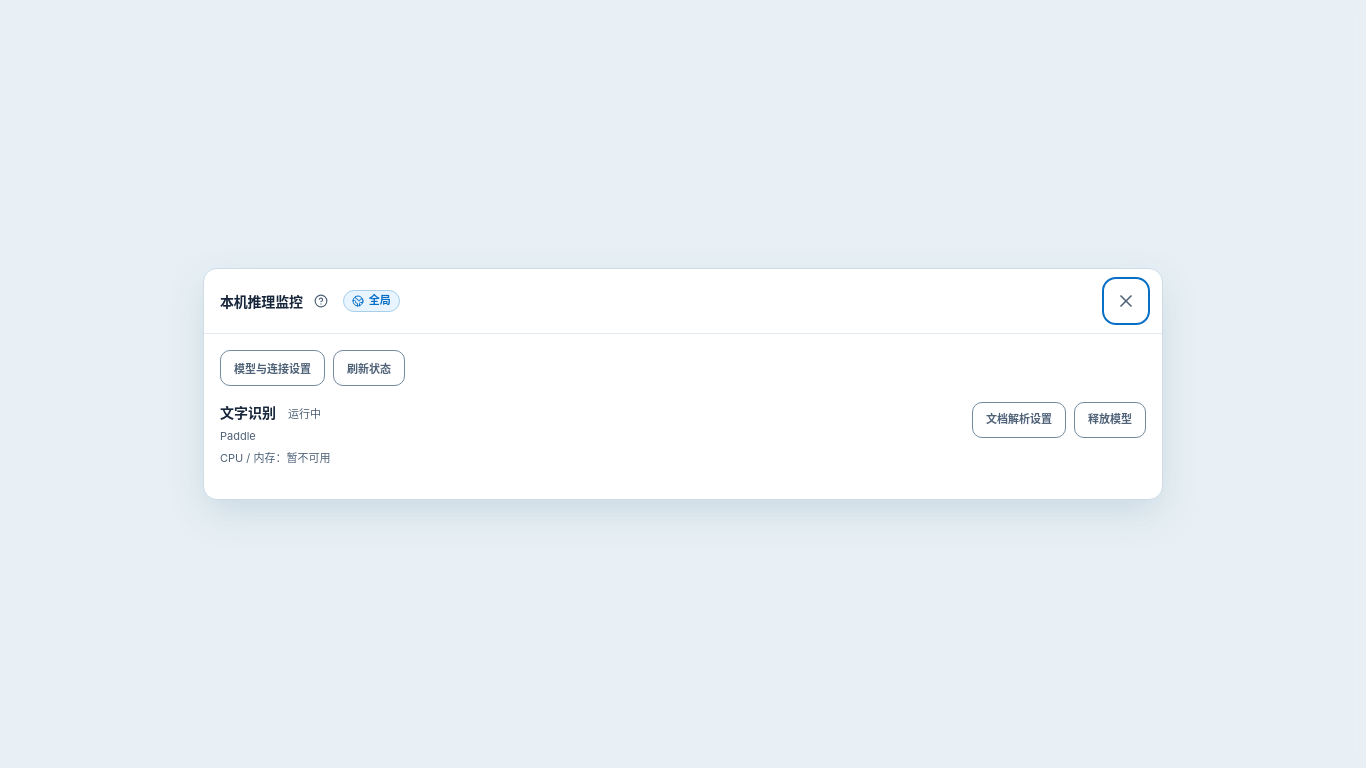
LocalInferencePage › confirms OCR release with a specific danger action and leaves the management modal open
Expected: the heading "文字识别" is shown, [220,402,276,424]
Click the button "释放模型" at (1110, 420), box [1074,402,1146,438]
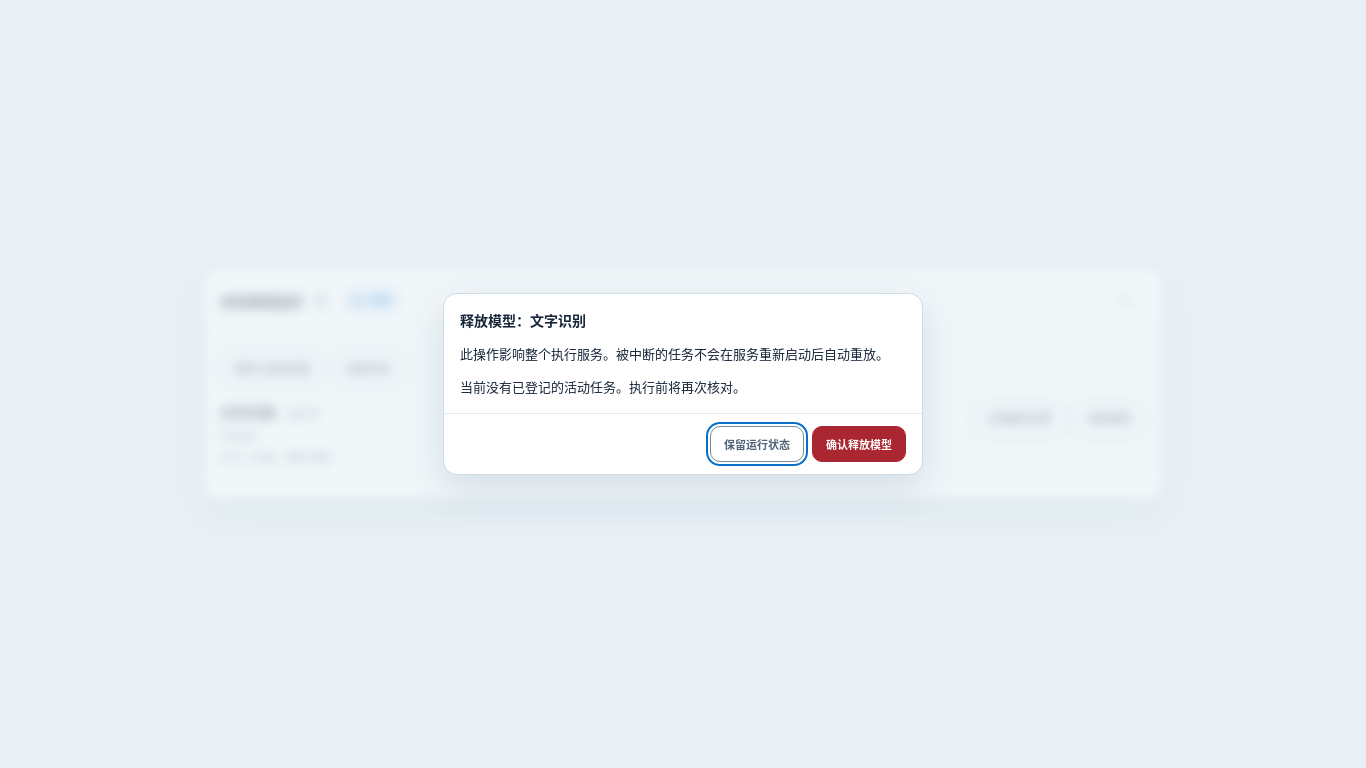
Now the text "当前没有已登记的活动任务。执行前将再次核对。" is shown, box [460,379,746,395]
Click the button "确认释放模型" at (859, 444), box [812,426,906,462]
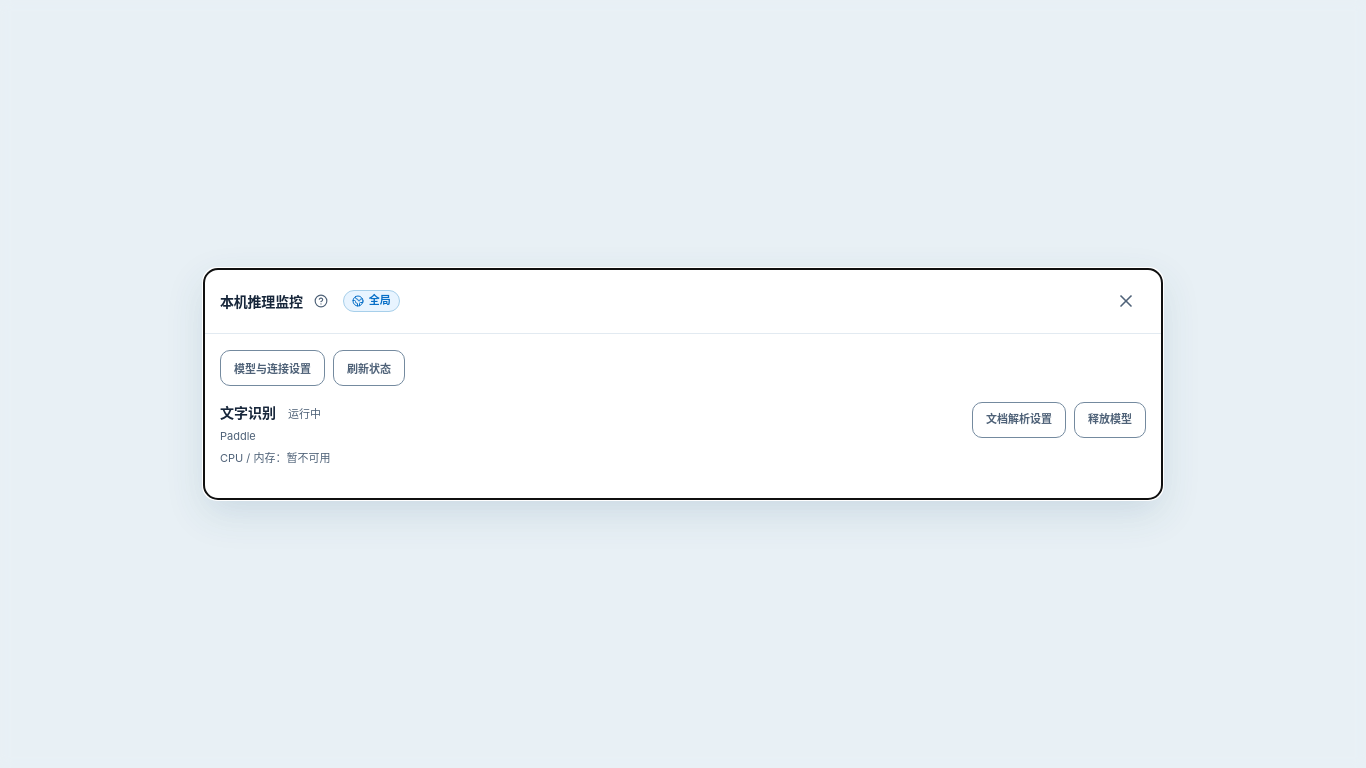
Expected: the dialog "本机推理监控" is shown, [203,268,1163,500]
Now the heading "释放模型：文字识别" is gone
